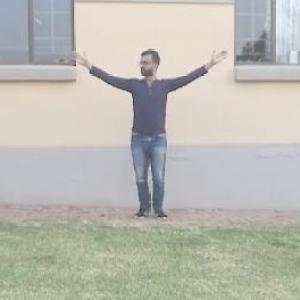takeoff: (65, 43, 223, 213)
